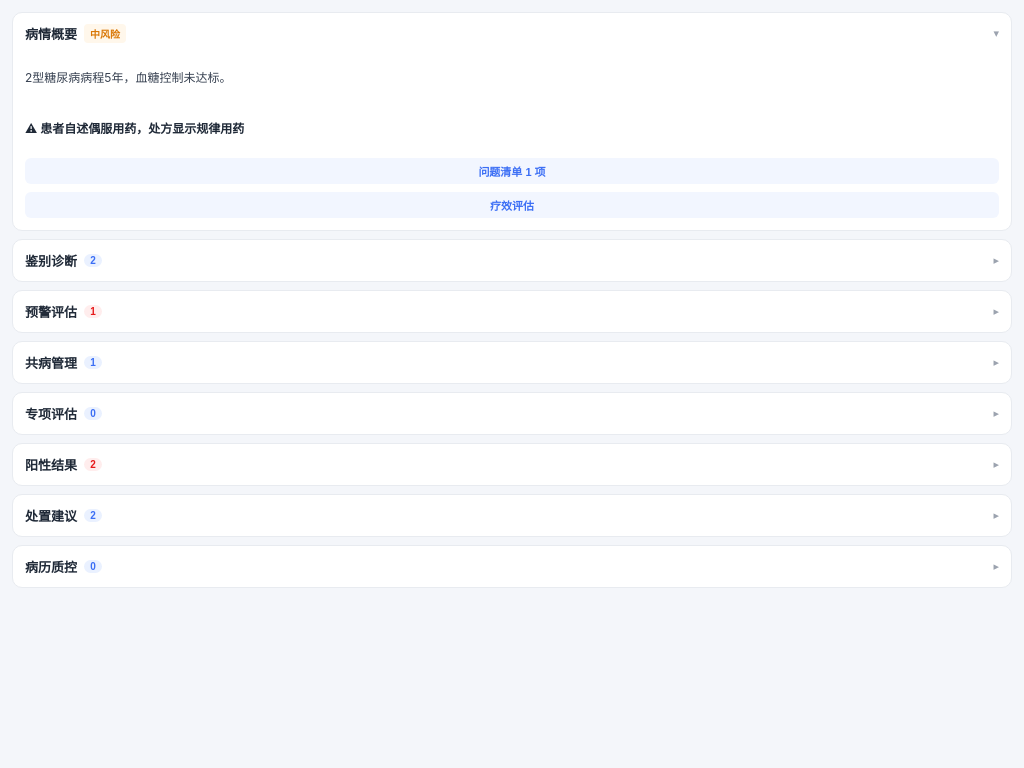
Test: 分析页 › 概要里的问题清单与疗效评估默认收着，展开才铺开
Expected: the text "血糖控制不佳" is not shown
Expected: the text "现方案控制不足" is not shown
Click the button "问题清单 1 项" at {"x": 512, "y": 171}, box 25,158 -> 999,184
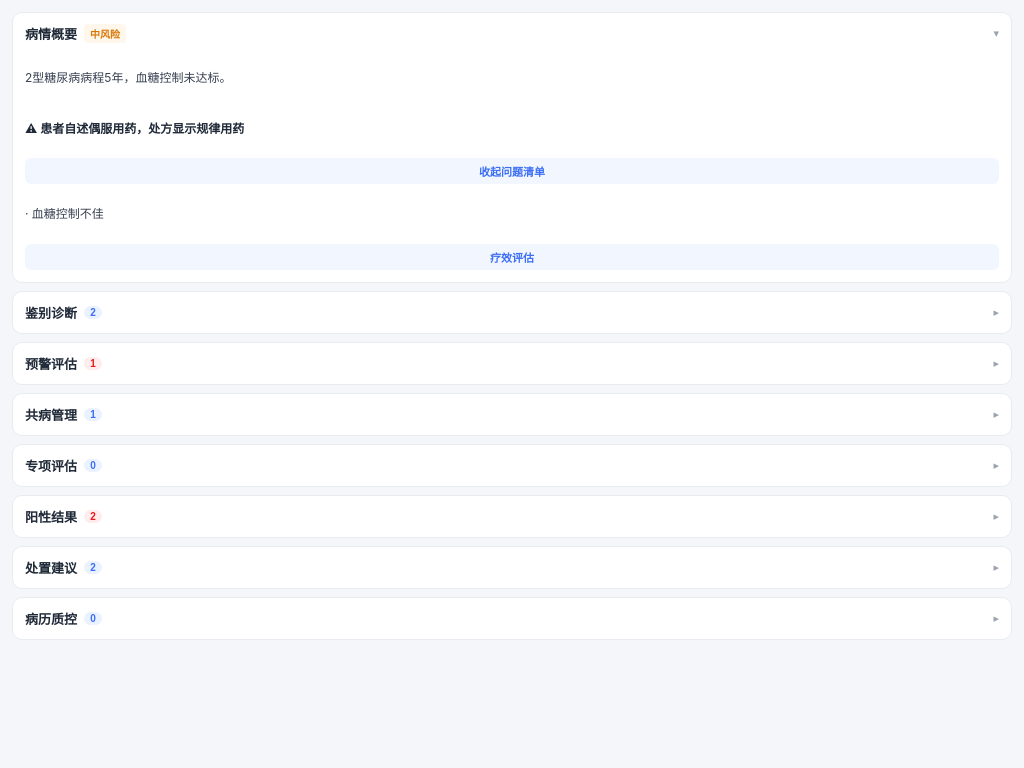
Result: the element that starts with "病情概要" shows "血糖控制不佳" at 25,206 -> 104,221
Click the button "疗效评估" at {"x": 512, "y": 257}, box 25,244 -> 999,270
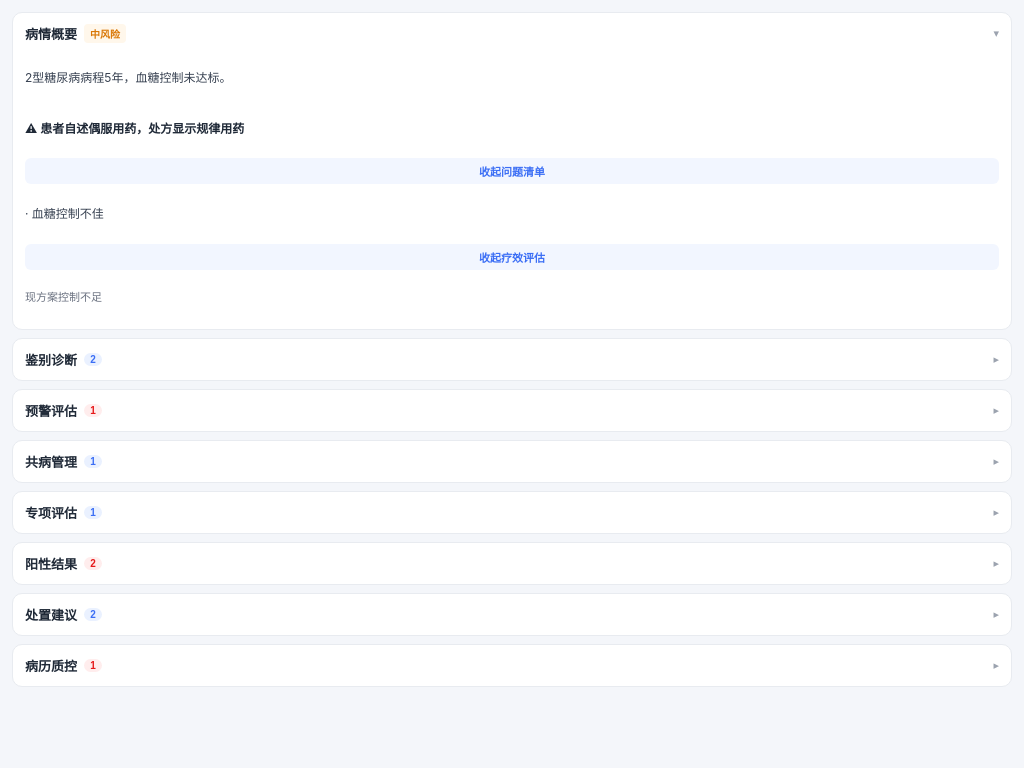
Result: the element that starts with "病情概要" shows "现方案控制不足" at 25,290 -> 102,304
